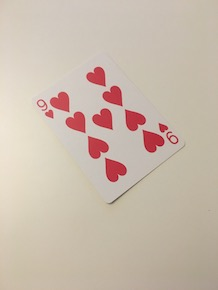NineOfHearts: (27, 48, 192, 207)
